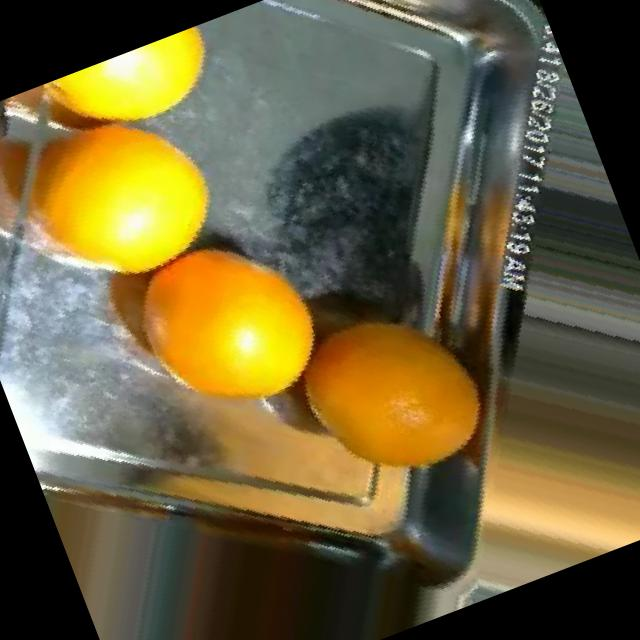Fruit: (44, 16, 248, 166), (382, 0, 545, 60)
